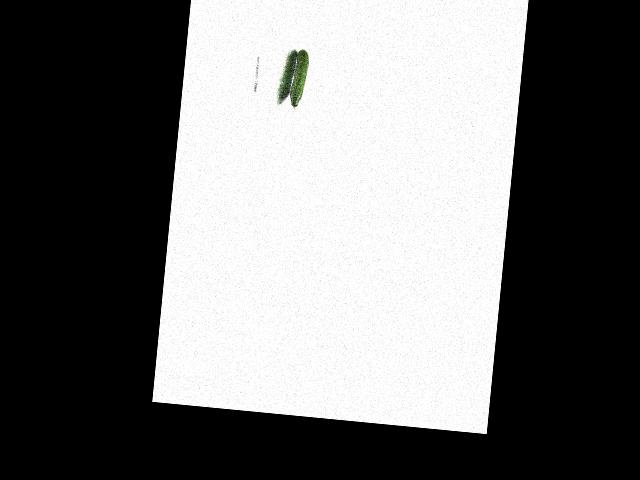cucumber: (288, 49, 309, 110)
